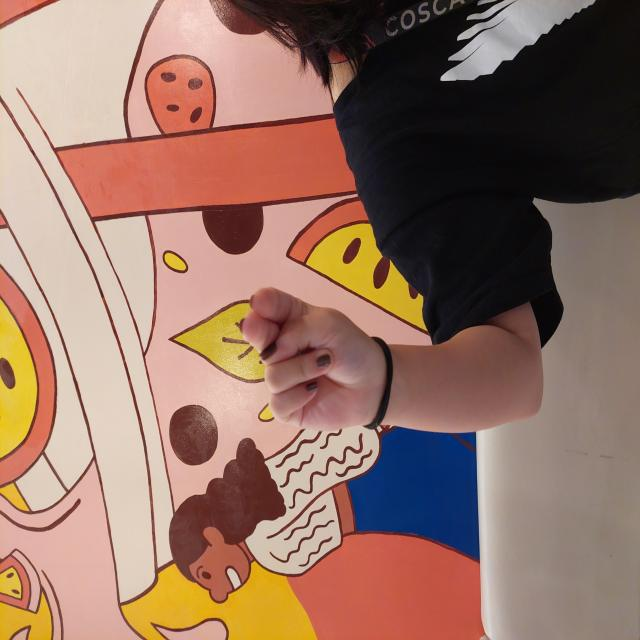N_TILDE: (190, 257, 429, 470)
